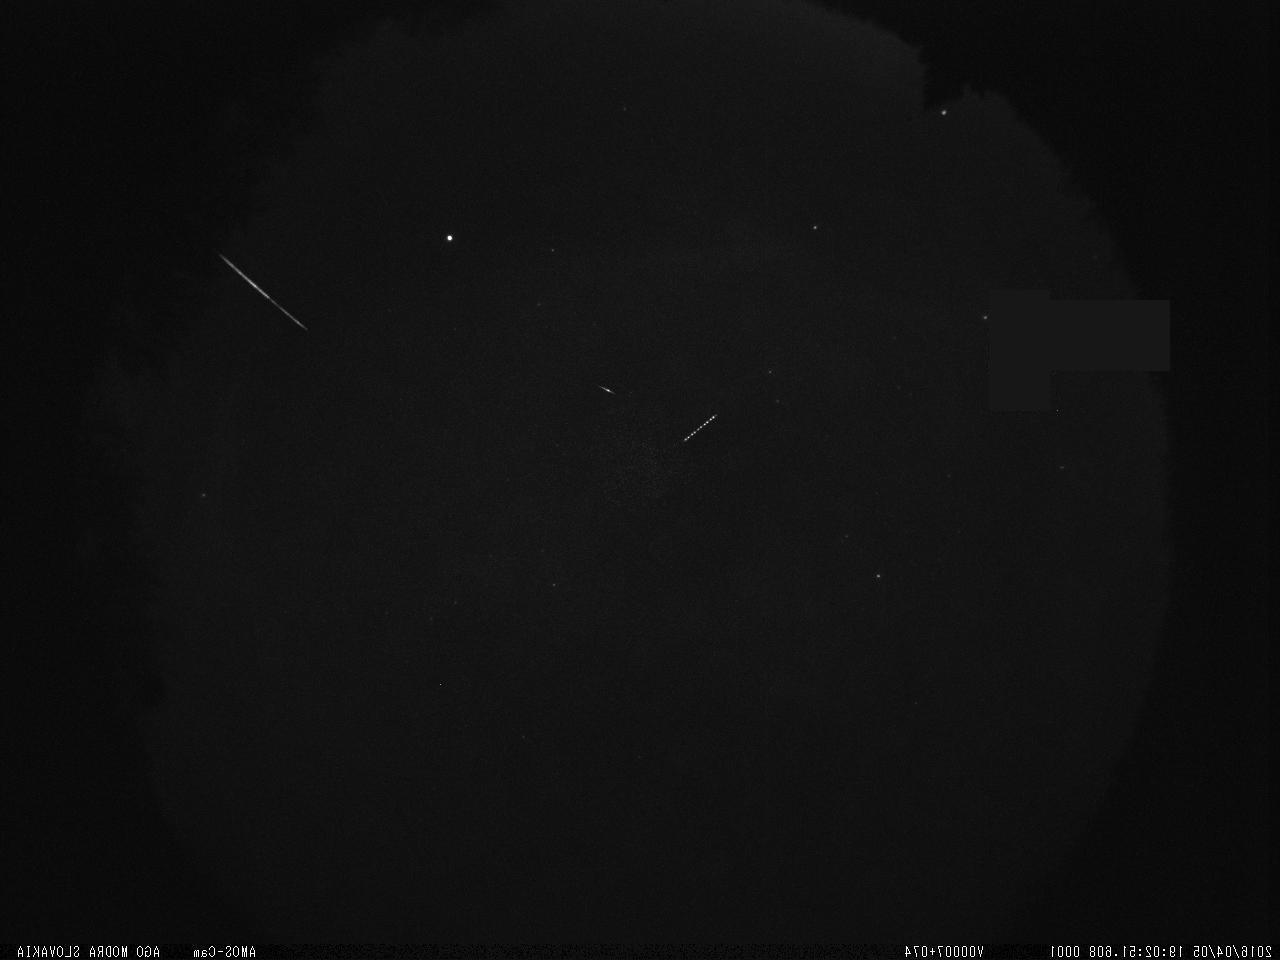meteor: (203, 250, 335, 331), (594, 380, 619, 400)
